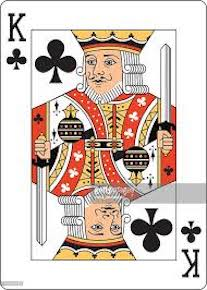KingOfClubs: (2, 2, 205, 290)
